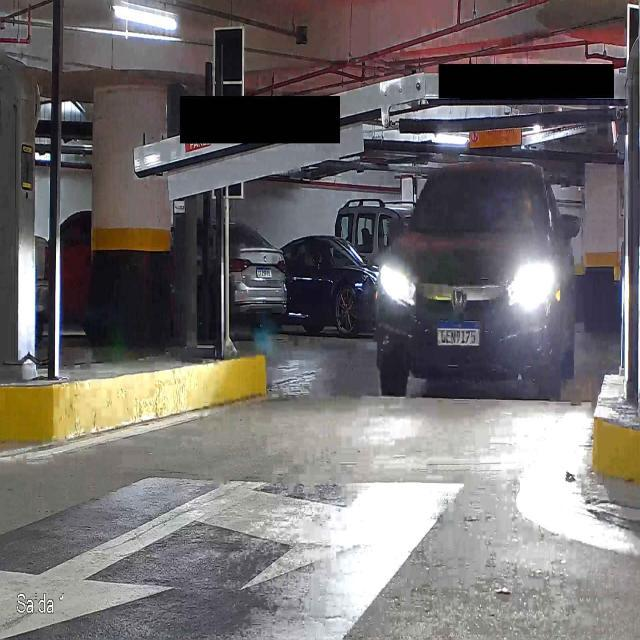mercosul_plate: (434, 318, 482, 349)
